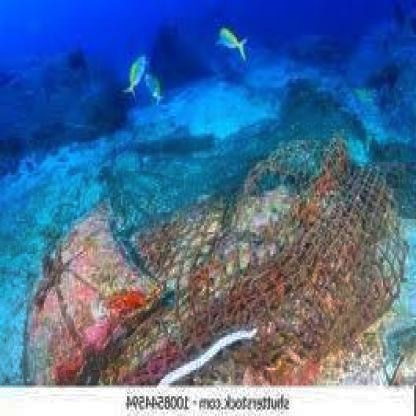net: (72, 142, 397, 386)
